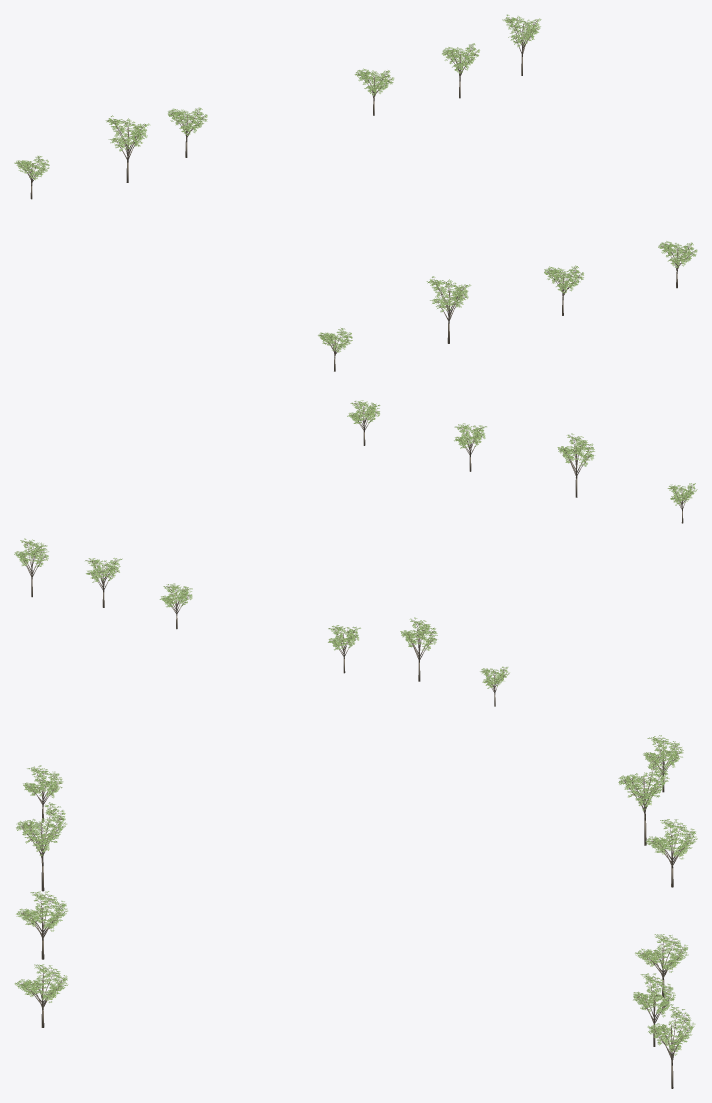
File: 20261104-public-planting-3.glb
3 renders of one model, top to bottom at view 1: azimuth 30°, elevation 25°; view 2: azimuth 150°, elevation 25°; view 3: azimuth 270°, elevation 25°, orthographic. The views are drawn at different scales.
Size of the model in its own units: 82.85 by 9.7 by 76.07.
